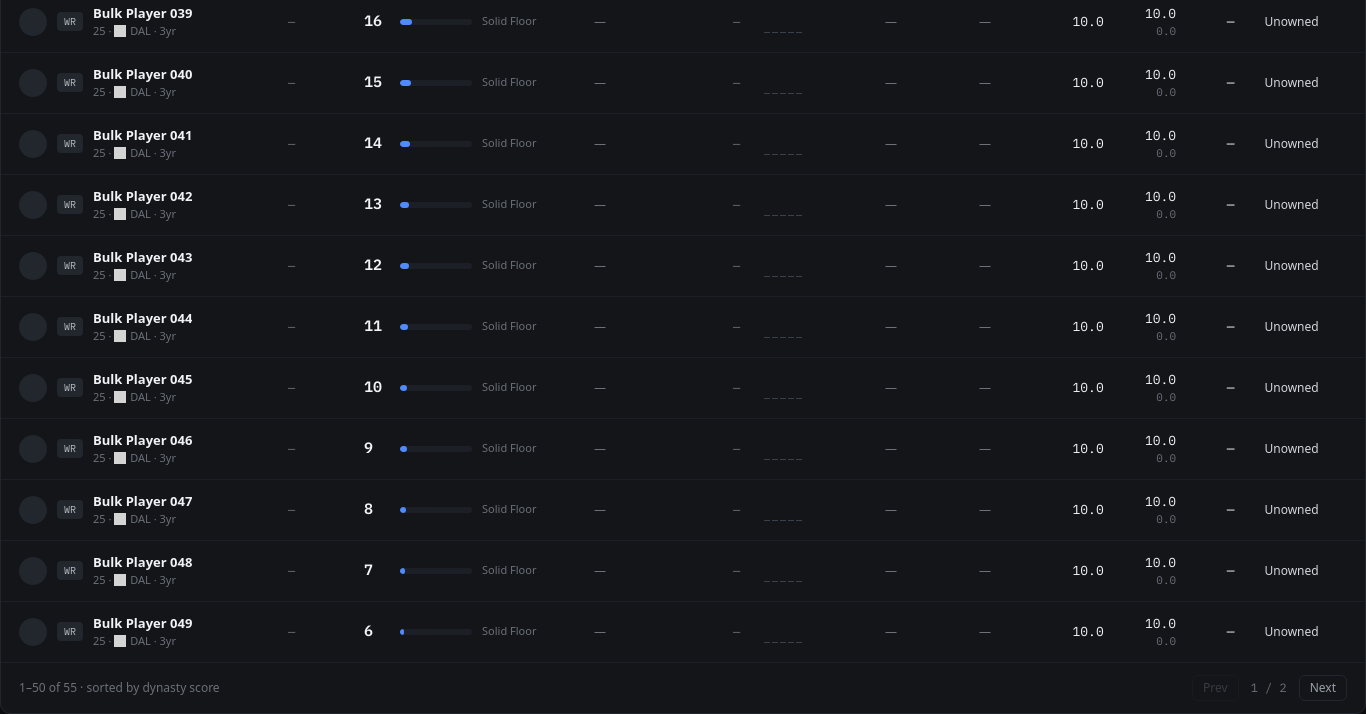
Market › pagination arithmetic at a boundary: 55 rows shows 1–50 on page 1, 51–55 on page 2
(page scrolled)
Check: the text "1–50 of 55 · sorted by dynasty score" is shown, box x1=19 y1=680 x2=220 y2=696
Check: the text "Bulk Player 050" is not shown
Click the button "Next" at (1323, 688), box x1=1299 y1=674 x2=1347 y2=700
(page scrolled)
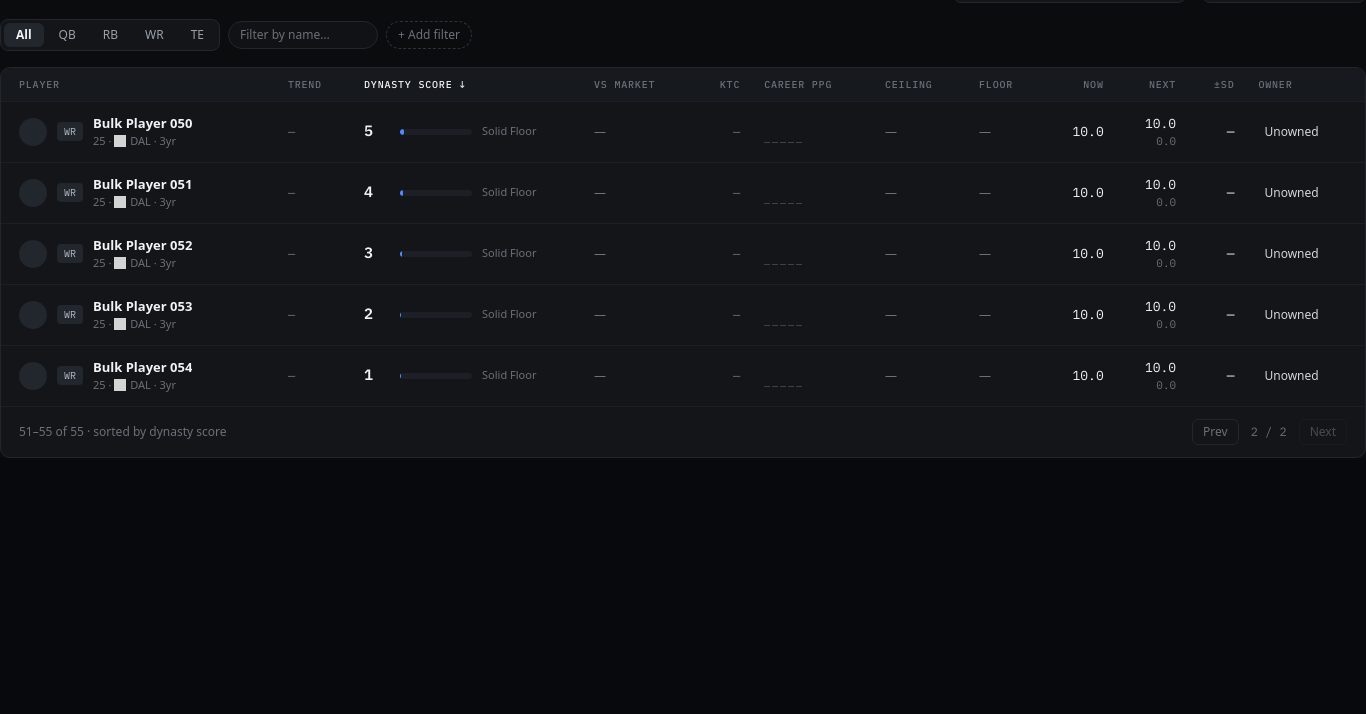
Check: the text "51–55 of 55 · sorted by dynasty score" is shown, box x1=19 y1=424 x2=226 y2=440
Check: the text "Bulk Player 050" is shown, box x1=93 y1=114 x2=192 y2=133
